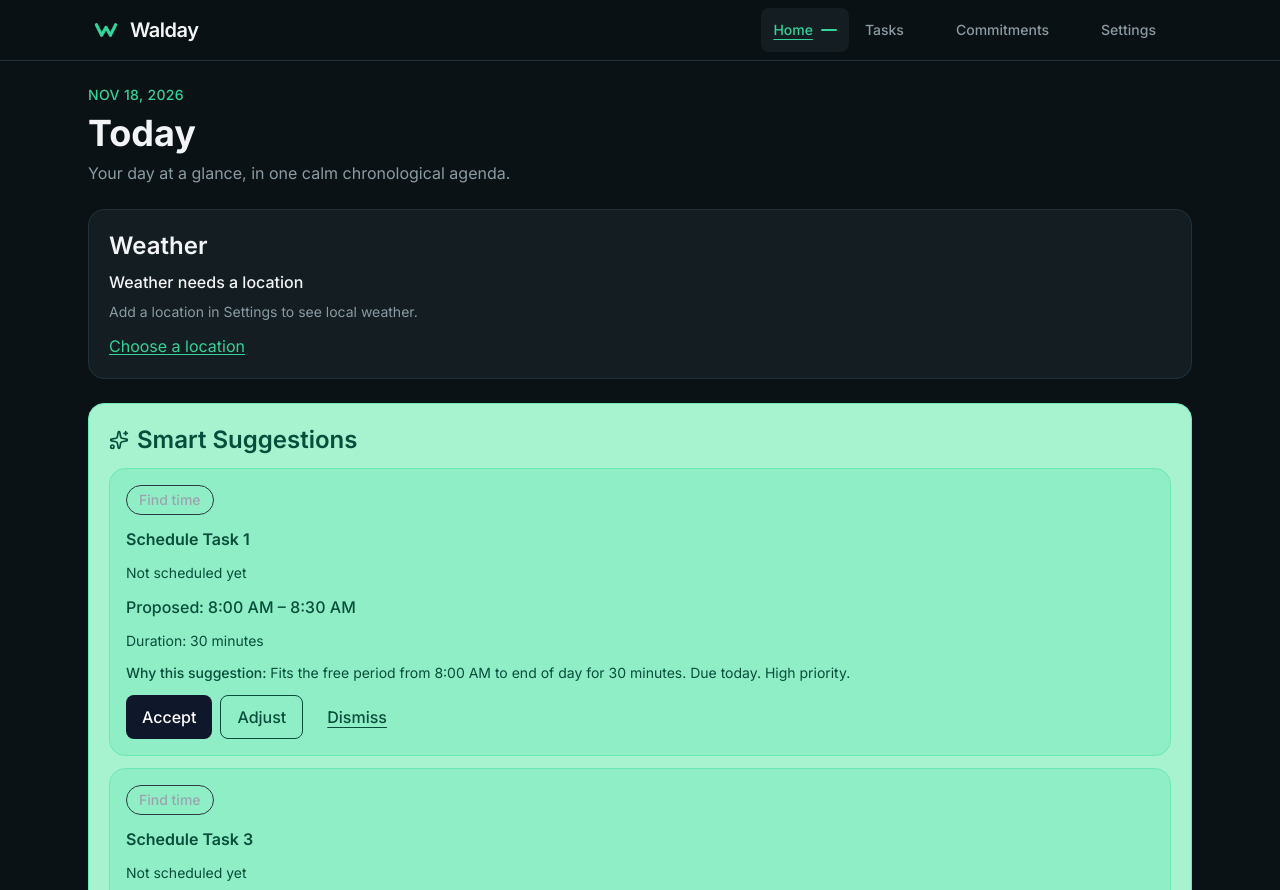
Test: Home suggestion dismissal memory and states (US5) › reveals a hidden fourth suggestion after one is resolved
Expected: the heading "Today" is shown, [88,111,196,155]
Expected: the heading "Schedule Task 1" is shown, [126,529,250,549]
Click the button with aria-label "Accept: schedule Task 1" at [169, 717], box [126,695,212,739]
(page scrolled)
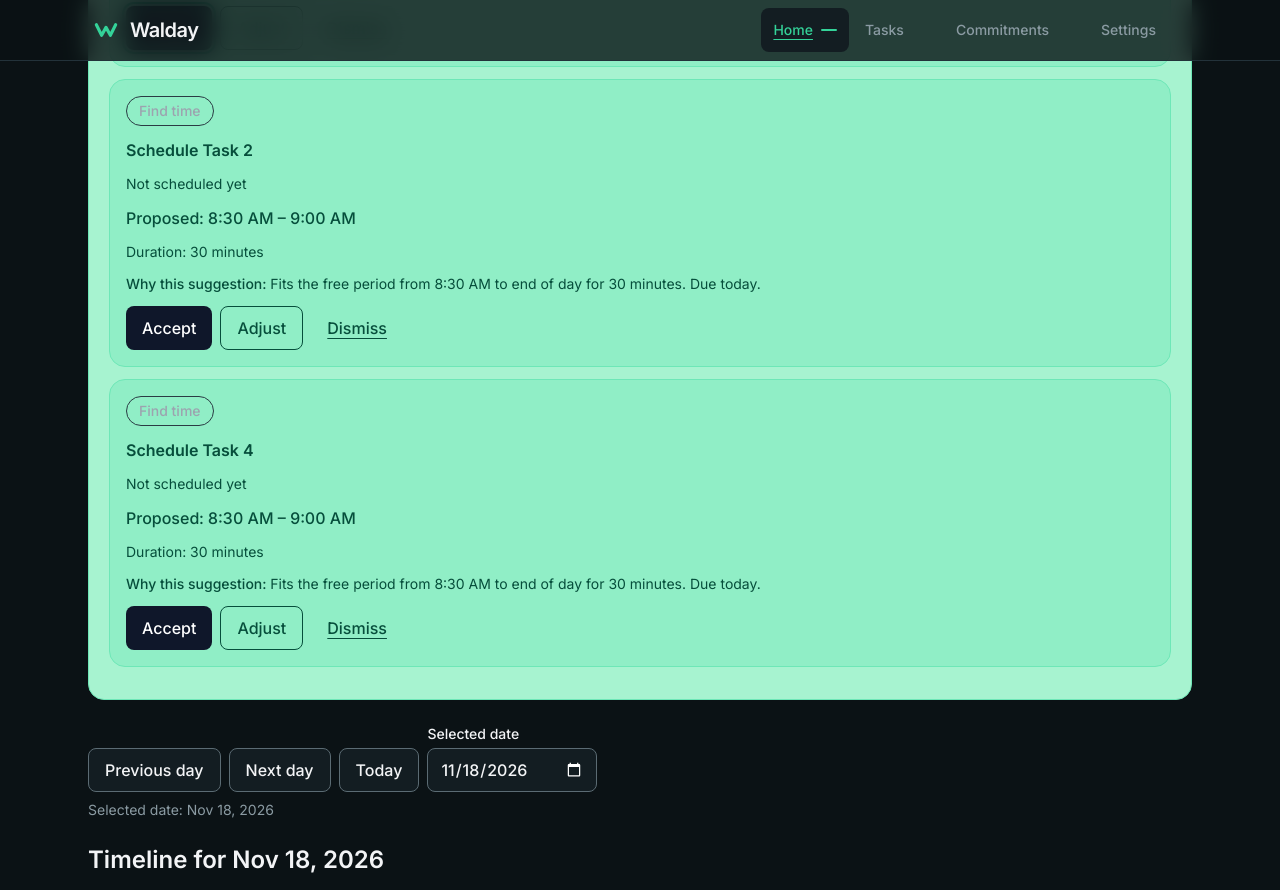
Now the heading "Schedule Task 4" is shown, box [126,440,254,460]
